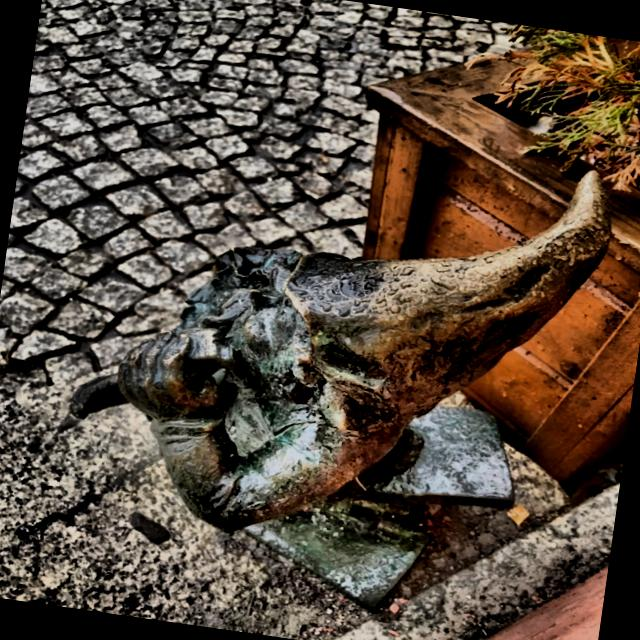Wedelek: (72, 172, 610, 609)
